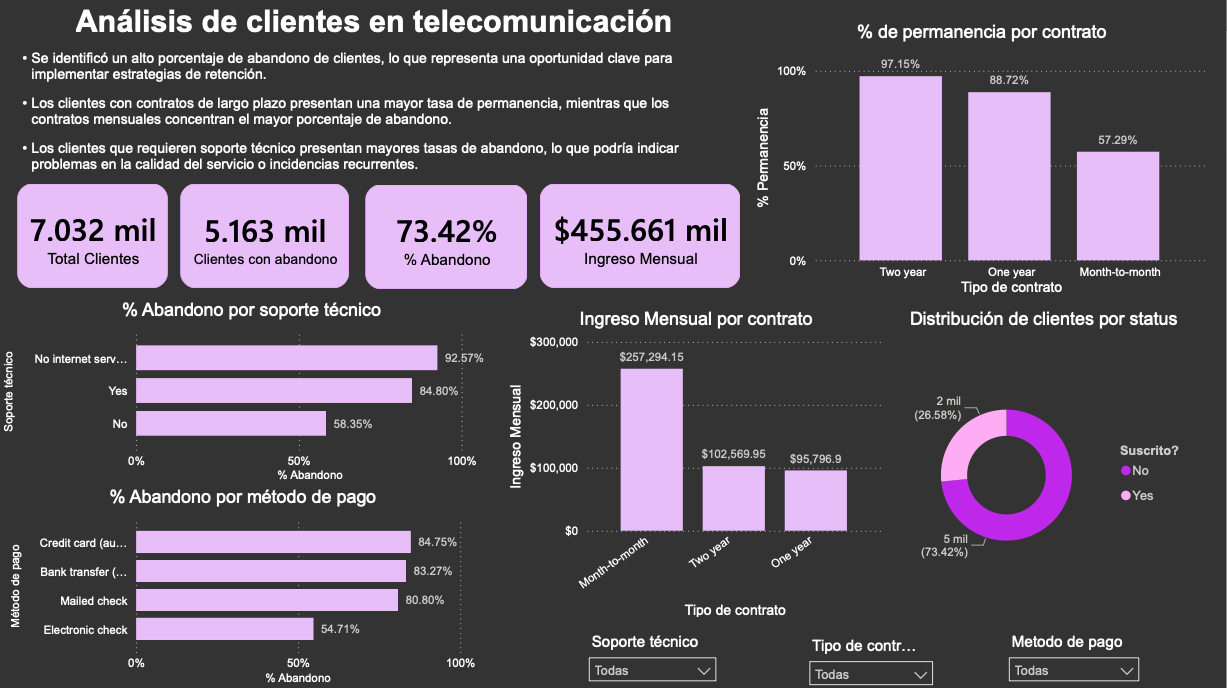

What the dashboard file says about the page in this screenshot:
{"tool":"powerbi","page":{"name":"Página 1","canvas":[1280,720],"ordinal":0},"visuals":[{"type":"cardVisual","fields":{"Data":["telecom customers_info.Total Clientes"]},"box":[7.1,180.8,181.8,133.1],"z":1},{"type":"cardVisual","fields":{"Data":["telecom customers_info.Clientes con abandono"]},"box":[176.8,180.8,200.1,133.1],"z":2},{"type":"textbox","box":[75.2,0,644.1,49.8],"z":3},{"type":"cardVisual","fields":{"Data":["telecom customers_info.% Abandono"]},"box":[369.8,181.8,193,133.1],"z":4},{"type":"cardVisual","fields":{"Data":["telecom customers_info.Ingreso Mensual"]},"box":[551.6,180.8,233.7,133.1],"z":5},{"type":"clusteredColumnChart","title":"% de permanencia por contrato","fields":{"Category":["telecom customers_info.contract"],"Y":["telecom customers_info.% Abandono"]},"box":[785.3,24.4,479.5,289.5],"z":6},{"type":"barChart","title":"% Abandono por soporte técnico","fields":{"Category":["telecom customers_info.tech_support"],"Y":["telecom customers_info.% Abandono"]},"box":[0,313.9,527.2,195],"z":7},{"type":"barChart","title":"% Abandono por método de pago","fields":{"Category":["telecom customers_info.payment_method"],"Y":["telecom customers_info.% Abandono"]},"box":[7.1,509,494.7,211.3],"z":8},{"type":"donutChart","title":"Distribución de clientes por status","fields":{"Category":["telecom customers_info.subscription_status"],"Y":["telecom customers_info.Total Clientes"]},"box":[927.5,323,324.1,327.1],"z":9},{"type":"clusteredColumnChart","title":"Ingreso Mensual por contrato","fields":{"Category":["telecom customers_info.contract"],"Y":["telecom customers_info.Ingreso Mensual"]},"box":[527.2,323,400.3,327.1],"z":10},{"type":"slicer","fields":{"Values":["telecom customers_info.contract"]},"box":[835,661.3,149.3,58.9],"z":11},{"type":"slicer","fields":{"Values":["telecom customers_info.tech_support"]},"box":[605.5,657.3,152.4,61],"z":12},{"type":"slicer","fields":{"Values":["telecom customers_info.payment_method"]},"box":[1043.3,657.3,155.4,63],"z":13},{"type":"textbox","box":[7.1,48.8,757.8,139.2],"z":14}]}

Visuals, with their boxes in screenshot pixels (x1, y1, x2, y2), scaled from the page's 1280x720 canvas onto the 1227x688 screenshot:
cardVisual - telecom customers_info.Total Clientes: crop(7, 173, 181, 300)
cardVisual - telecom customers_info.Clientes con abandono: crop(169, 173, 361, 300)
textbox: crop(72, 0, 690, 48)
cardVisual - telecom customers_info.% Abandono: crop(354, 174, 539, 301)
cardVisual - telecom customers_info.Ingreso Mensual: crop(529, 173, 753, 300)
"% de permanencia por contrato" clusteredColumnChart: crop(753, 23, 1212, 300)
"% Abandono por soporte técnico" barChart: crop(0, 300, 505, 486)
"% Abandono por método de pago" barChart: crop(7, 486, 481, 687)
"Distribución de clientes por status" donutChart: crop(889, 309, 1200, 621)
"Ingreso Mensual por contrato" clusteredColumnChart: crop(505, 309, 889, 621)
slicer - telecom customers_info.contract: crop(800, 632, 944, 687)
slicer - telecom customers_info.tech_support: crop(580, 628, 727, 686)
slicer - telecom customers_info.payment_method: crop(1000, 628, 1149, 687)
textbox: crop(7, 47, 733, 180)
